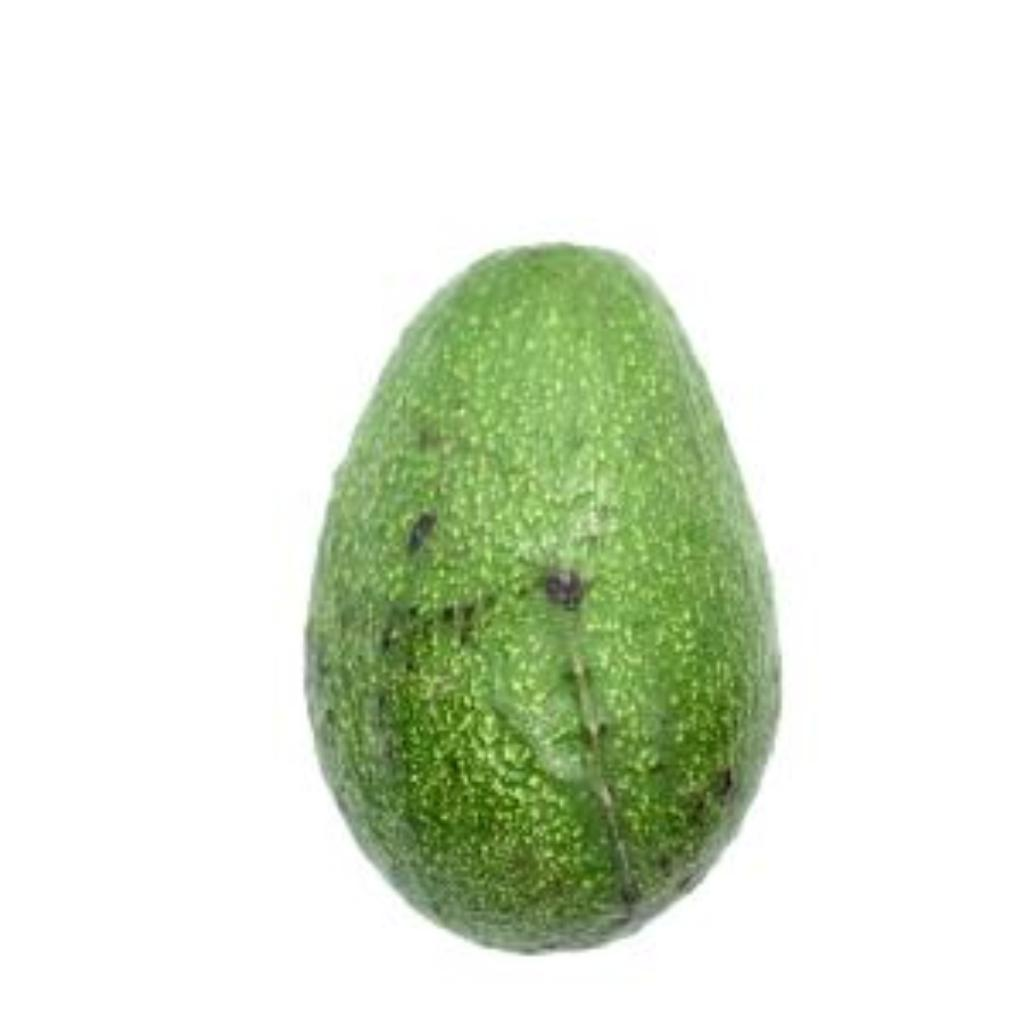cercospora_spot: (252, 234, 824, 968)
